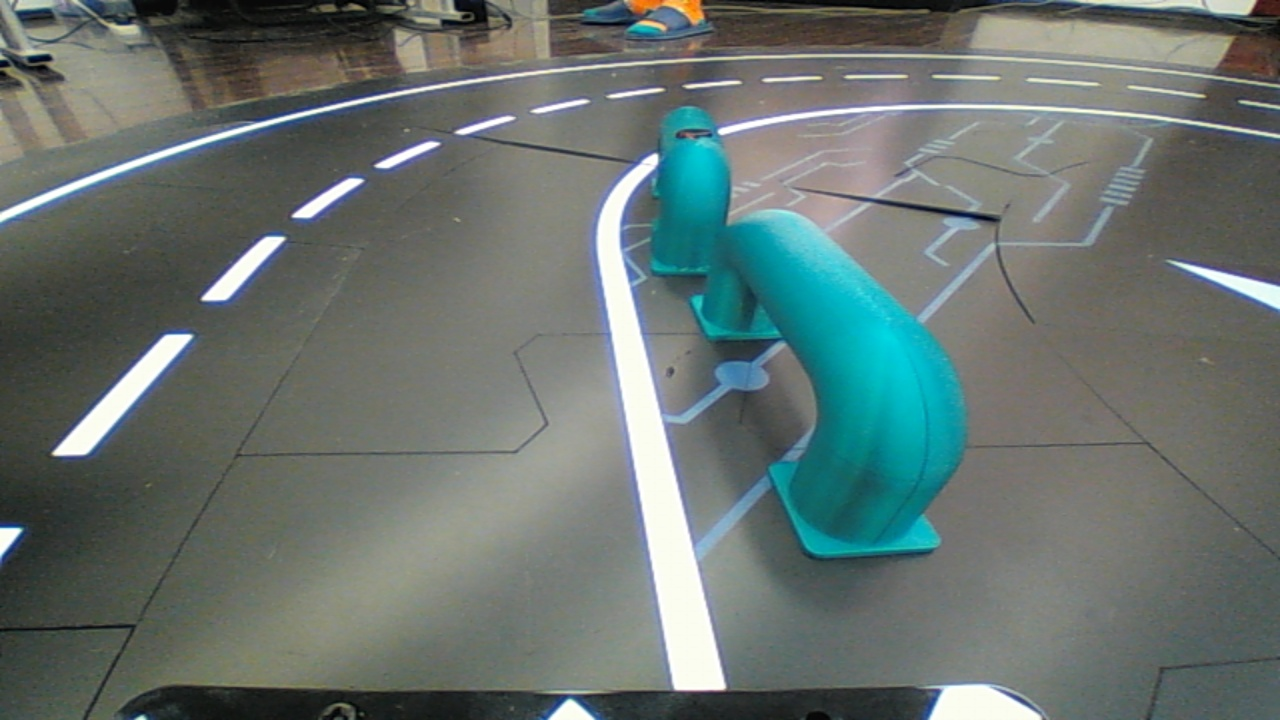No entry: (704, 199, 988, 561)
Pedestrian crossing: (629, 89, 737, 284)
